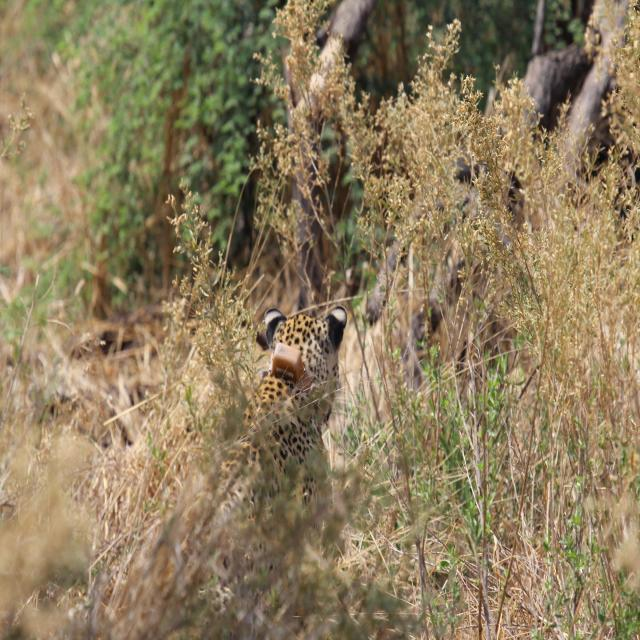Leopard: (203, 300, 351, 575)
